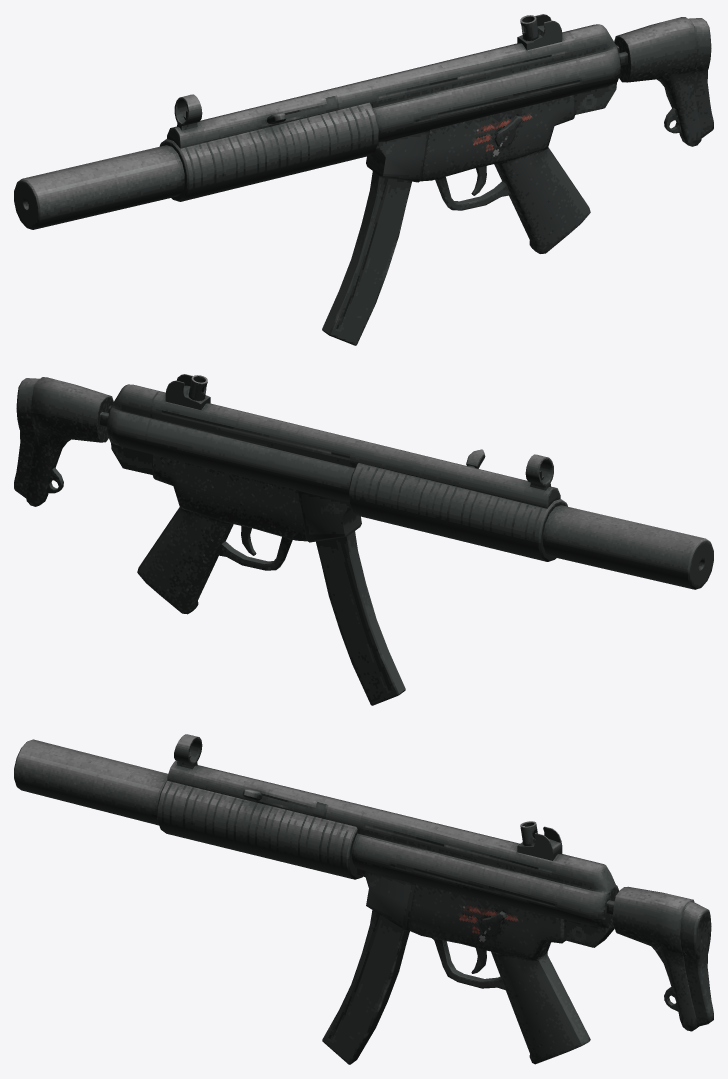
The picture shows the model from 3 angles, top to bottom: view 1: azimuth 30°, elevation 25°; view 2: azimuth 150°, elevation 25°; view 3: azimuth 330°, elevation 25°; orthographic projection.
Visible parts, largest first — view 1: MP5, body, handguard, muffler, butt, clip, sight_1, sight_2; view 2: MP5, body, handguard, muffler, butt, clip, sight_1, sight_2; view 3: MP5, body, handguard, butt, muffler, clip, sight_1, sight_2.
Part boxes in pixels (x1,y1,x2,y2): MP5: (167,24,620,182); body: (420,95,590,253); handguard: (159,102,378,201); muffler: (14,145,184,229); butt: (614,17,713,146); clip: (322,171,411,345); sight_1: (517,14,562,50); sight_2: (174,94,202,130); MP5: (107,384,560,542); body: (137,455,306,614); handguard: (349,463,567,561); muffler: (543,505,713,589); butt: (14,377,113,506); clip: (316,531,405,705); sight_1: (165,374,210,409); sight_2: (525,454,553,490); MP5: (167,760,618,947); body: (408,884,590,1064); handguard: (157,780,362,879); butt: (606,886,713,1031); muffler: (14,739,168,825); clip: (322,910,409,1064); sight_1: (517,821,562,860); sight_2: (174,734,202,769).
Size of the model in its own units: 4.82 by 1.92 by 0.4193.
Materials: 1 (1 with a texture image).
